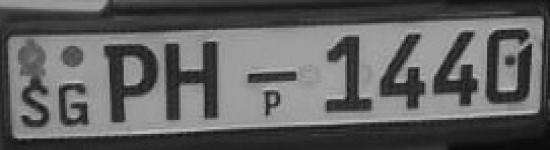-: (239, 63, 306, 91)
0: (482, 23, 535, 113)
1: (318, 27, 380, 119)
4: (431, 26, 482, 113), (381, 28, 431, 112)
G: (100, 38, 159, 127), (58, 78, 94, 132)
H: (160, 36, 229, 126)
S: (19, 80, 53, 131)
